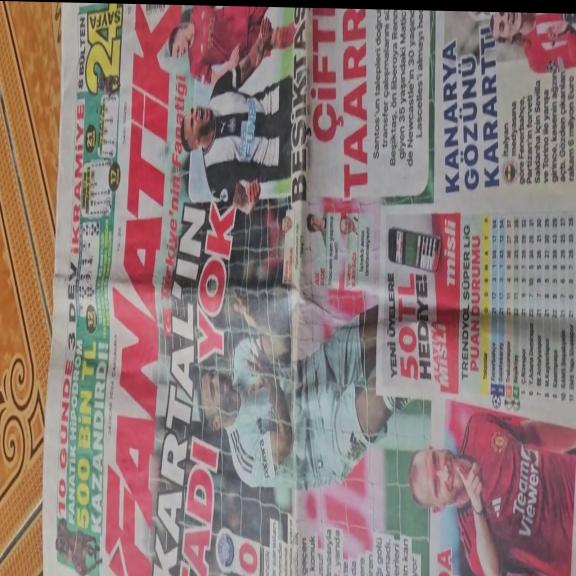Kertas: (42, 1, 310, 576), (300, 15, 566, 576)
